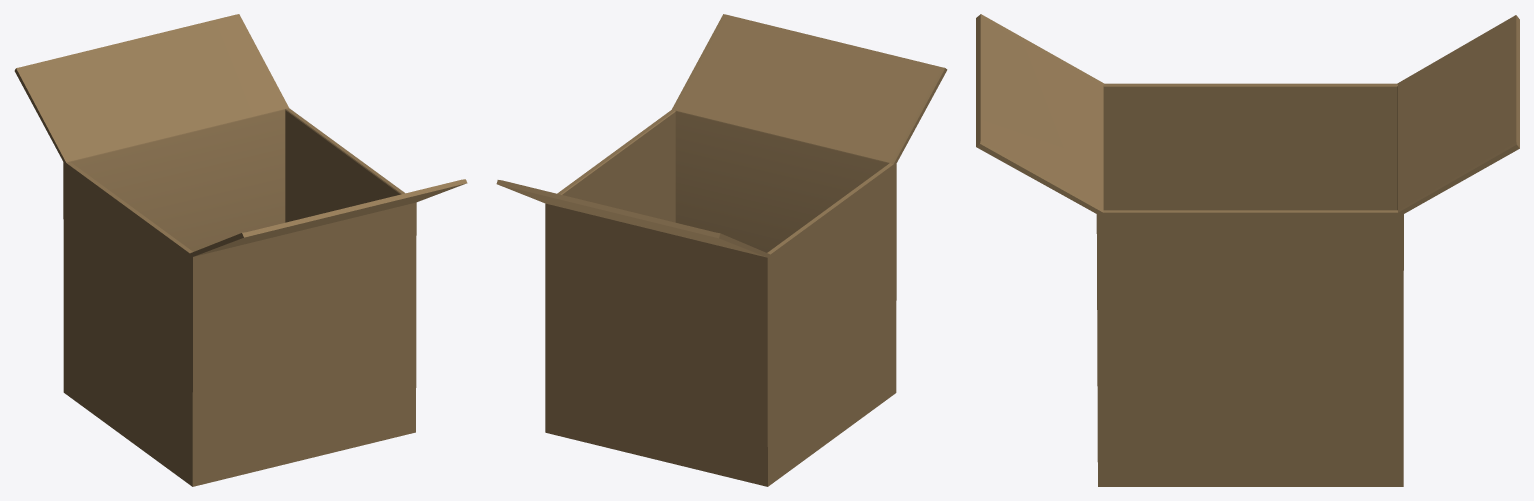
3 renders of one model, left to right at view 1: azimuth 30°, elevation 25°; view 2: azimuth 150°, elevation 25°; view 3: azimuth 270°, elevation 25°, orthographic. The views are drawn at different scales.
Visible parts, largest first — view 1: Cube; view 2: Cube; view 3: Cube.
Boxes of the visible parts, x1,y1,x2,y2 form: Cube: (14,14,467,486); Cube: (496,14,947,486); Cube: (976,14,1519,486).
Bounding box in the file's own units: 204 × 253 × 363.
